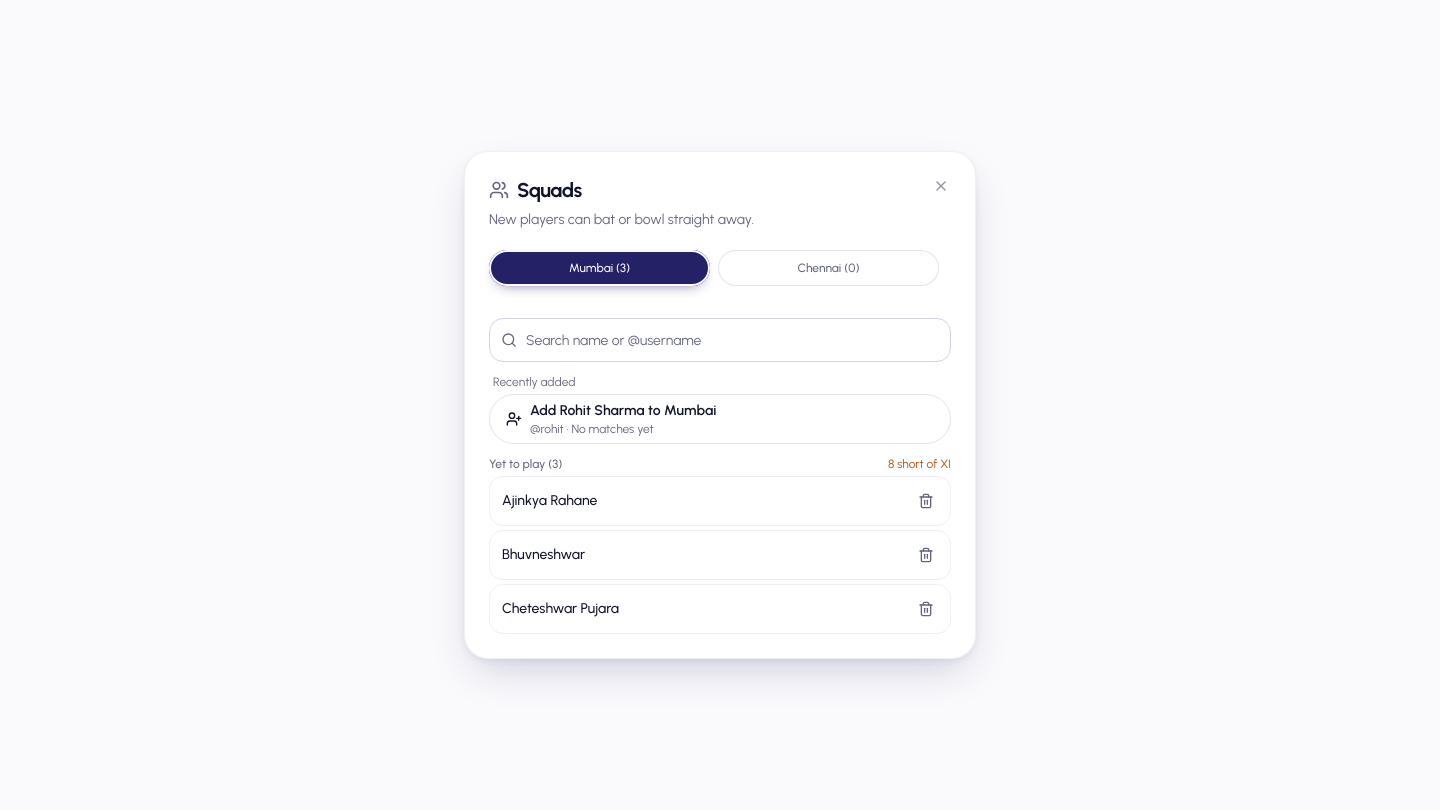
Test: SquadManagerDialog › uses the screen's search: the other squad is shown, a player of the other side is refused
Type "mo" into the search field at point(720, 340), box [489,318,951,362]
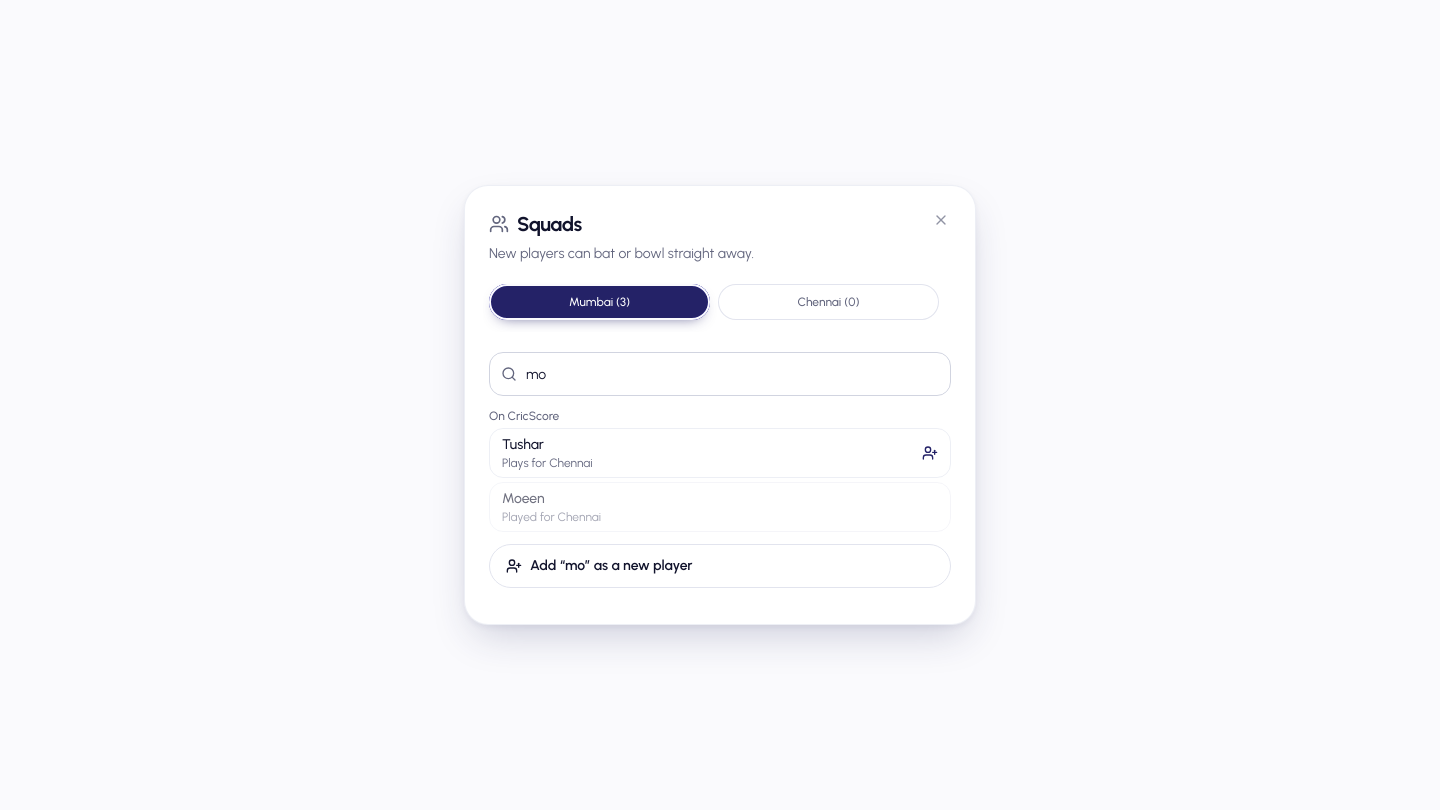
Expected: the button with aria-label "Add Tushar to Mumbai" is enabled, [489,428,951,478]
Expected: the button with aria-label "Add Tushar to Mumbai" shows "Plays for Chennai", [489,428,951,478]
Expected: the button with aria-label "Moeen: Played for Chennai" is disabled, [489,482,951,532]
